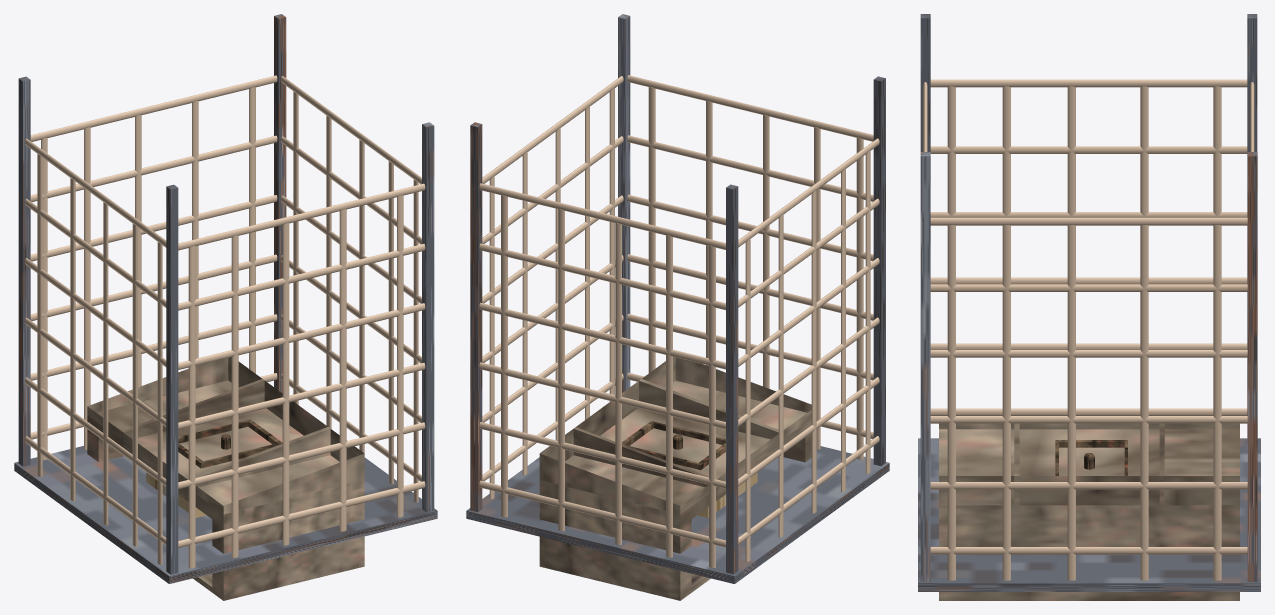
Rendered from BG_prop_package.fbx.
3 views of the same model, side by side, from view 1: azimuth 30°, elevation 25°; view 2: azimuth 150°, elevation 25°; view 3: azimuth 270°, elevation 25° (orthographic). The views are drawn at different scales.
Parts seen in each view (by area): view 1: ball cage, Cube.001, Cube.002; view 2: ball cage, Cube.001, Cube.002; view 3: ball cage, Cube.001, Cube.002.
Boxes of the visible parts, x1=… form: ball cage: x1=14, y1=14, x2=437, y2=583; Cube.001: x1=87, y1=357, x2=364, y2=600; Cube.002: x1=178, y1=419, x2=282, y2=468; ball cage: x1=466, y1=14, x2=889, y2=583; Cube.001: x1=539, y1=356, x2=811, y2=600; Cube.002: x1=622, y1=421, x2=725, y2=469; ball cage: x1=918, y1=14, x2=1260, y2=591; Cube.001: x1=939, y1=423, x2=1239, y2=600; Cube.002: x1=1055, y1=440, x2=1127, y2=475.
Bounding box in the file's own units: 944 × 1474 × 944.
10 materials, 9 textured.
